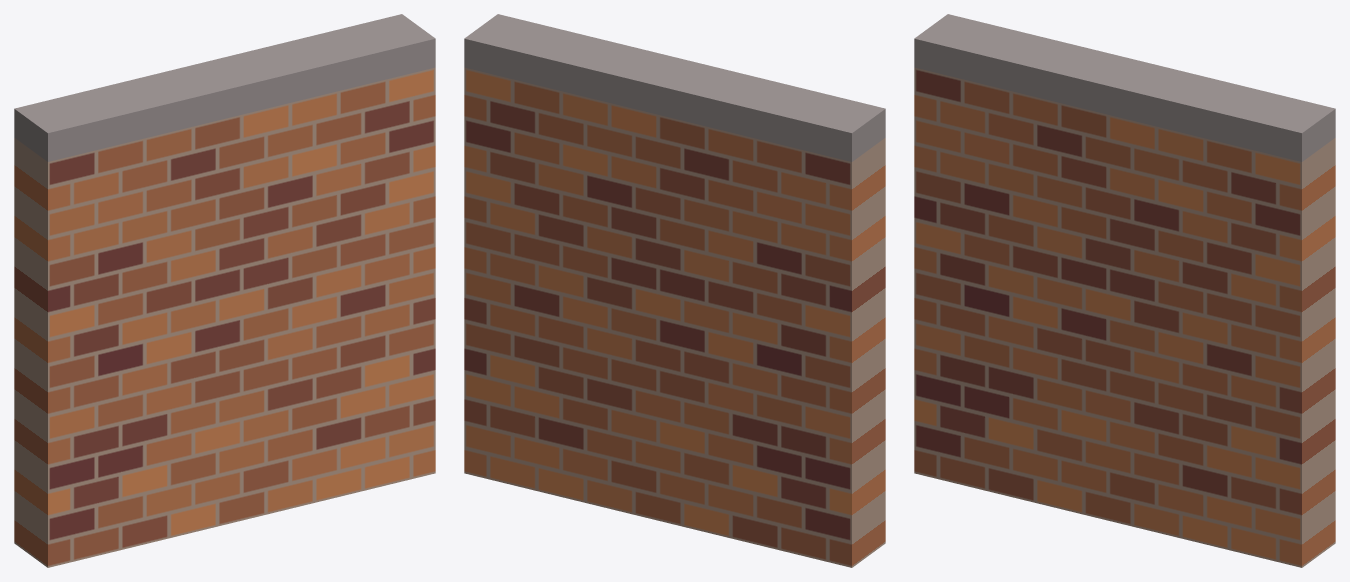
The model's file is wall.glb.
The picture shows the model from 3 angles, left to right: view 1: azimuth 30°, elevation 25°; view 2: azimuth 150°, elevation 25°; view 3: azimuth 330°, elevation 25°; orthographic projection.
Parts seen in each view (by area): view 1: wall-piece; view 2: wall-piece; view 3: wall-piece.
Boxes of the visible parts, bbox=[...] form: wall-piece: bbox=[14, 14, 435, 567]; wall-piece: bbox=[464, 14, 885, 567]; wall-piece: bbox=[914, 14, 1335, 567].
Bounding box in the file's own units: 2 × 2.14 × 0.3007.
2 materials, 1 textured.
